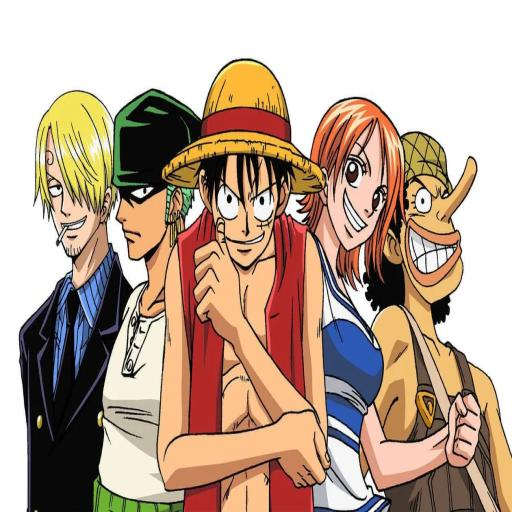Luffy: (198, 63, 301, 512)
Nami: (311, 71, 397, 512)
Usopp: (401, 101, 494, 512)
Zoro: (99, 39, 197, 512)
sanji: (8, 81, 99, 512)
